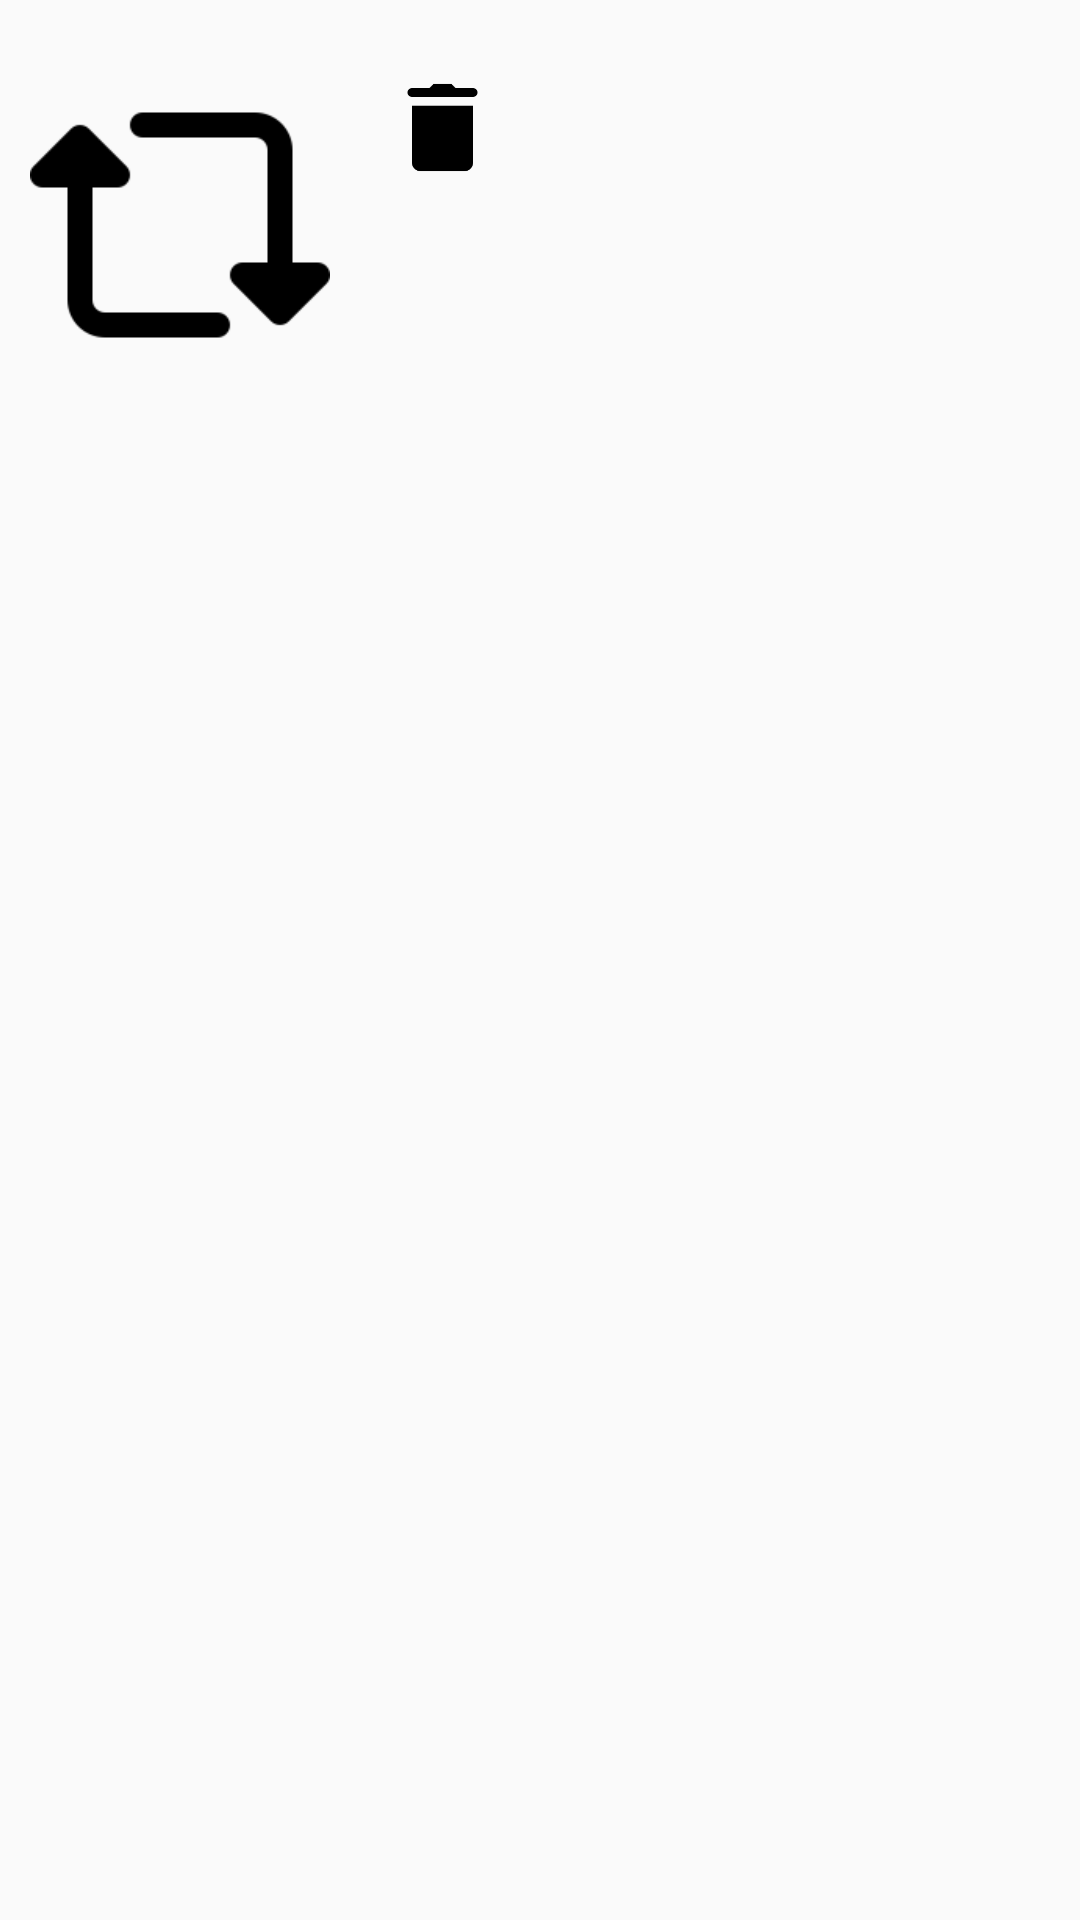

Icon click points for this 1080*1920 phone screenshot, format [x,y]:
refresh: [180,225]
trash: [442,127]
